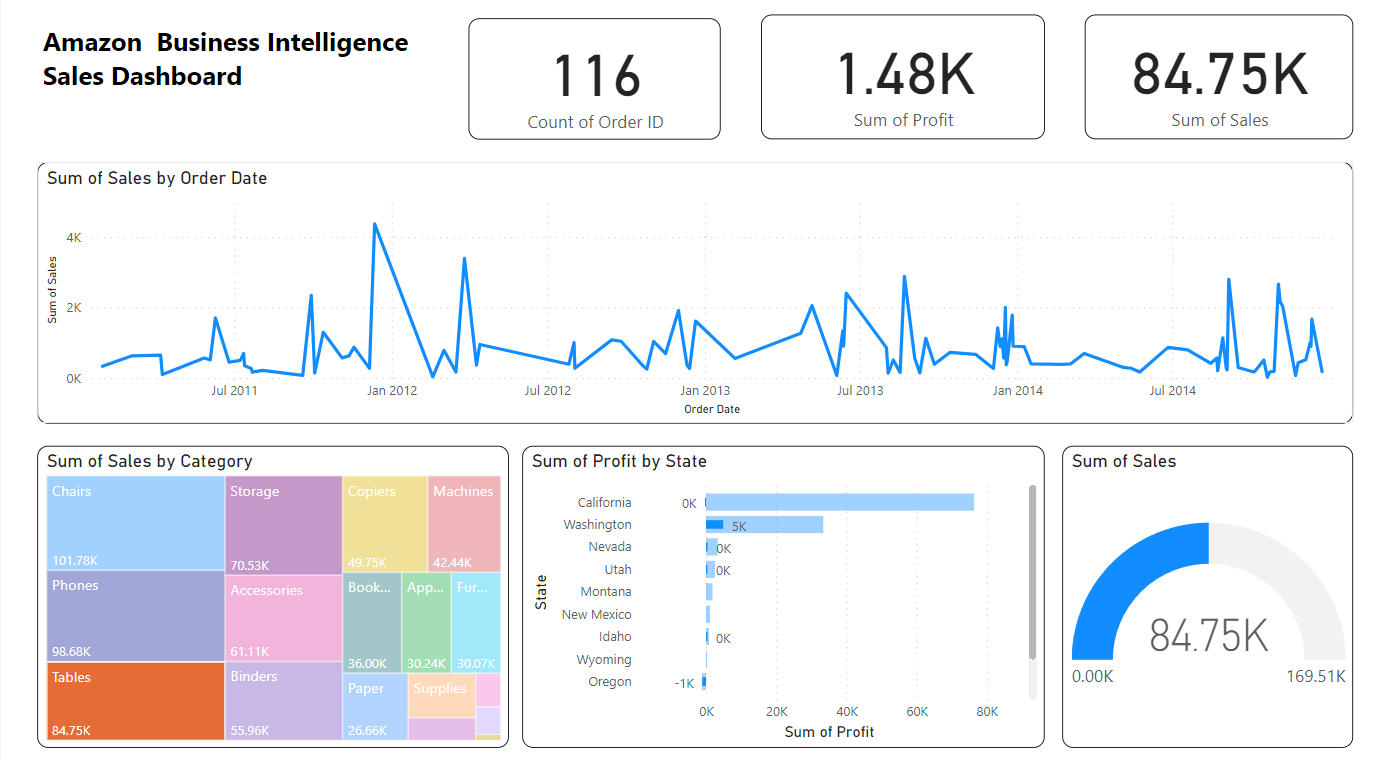

The page's visual inventory and layout, read from the dashboard file:
{"tool":"powerbi","page":{"name":"Page 1","canvas":[1280,720],"ordinal":0},"visuals":[{"type":"card","fields":{"Values":["Sum(Walmart.Sales)"]},"box":[1007.4,20.9,249.8,116.2],"z":0},{"type":"card","fields":{"Values":["Sum(Walmart.Profit)"]},"box":[706.5,20.9,263.8,116.2],"z":1000},{"type":"card","fields":{"Values":["CountNonNull(Walmart.Order ID)"]},"box":[434.6,24.4,234.7,112.7],"z":2000},{"type":"lineChart","fields":{"Category":["Walmart.Order Date"],"Y":["Sum(Walmart.Sales)"]},"box":[33.7,158,1223.5,242.8],"z":3000},{"type":"treemap","fields":{"Group":["Walmart.Category"],"Values":["Sum(Walmart.Sales)"]},"box":[33.7,421.8,438.1,281.2],"z":4000},{"type":"clusteredBarChart","fields":{"Category":["Walmart.State"],"Y":["Sum(Walmart.Profit)"]},"box":[484.5,421.8,485.7,281.2],"z":5000},{"type":"gauge","fields":{"Y":["Sum(Walmart.Sales)"]},"box":[986.5,421.8,270.7,281.2],"z":6000},{"type":"textbox","box":[33.7,24.4,369.5,116.2],"z":7000}]}

Visuals, with their boxes in screenshot pixels (x1, y1, x2, y2), scaled from the page's 1280x720 canvas onto the 1373x760 screenshot:
card - Sum(Walmart.Sales): pyautogui.locateOnScreen(1081, 22, 1349, 145)
card - Sum(Walmart.Profit): pyautogui.locateOnScreen(758, 22, 1041, 145)
card - CountNonNull(Walmart.Order ID): pyautogui.locateOnScreen(466, 26, 718, 145)
lineChart - Walmart.Order Date x Sum(Walmart.Sales): pyautogui.locateOnScreen(36, 167, 1349, 423)
treemap - Walmart.Category x Sum(Walmart.Sales): pyautogui.locateOnScreen(36, 445, 506, 742)
clusteredBarChart - Walmart.State x Sum(Walmart.Profit): pyautogui.locateOnScreen(520, 445, 1041, 742)
gauge - Sum(Walmart.Sales): pyautogui.locateOnScreen(1058, 445, 1349, 742)
textbox: pyautogui.locateOnScreen(36, 26, 432, 148)
